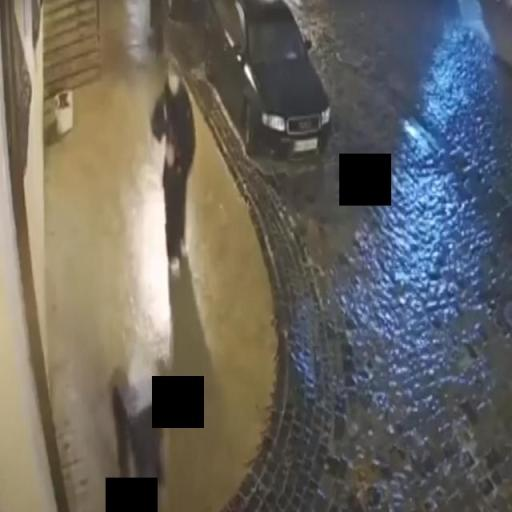Fall: (106, 358, 170, 512)
